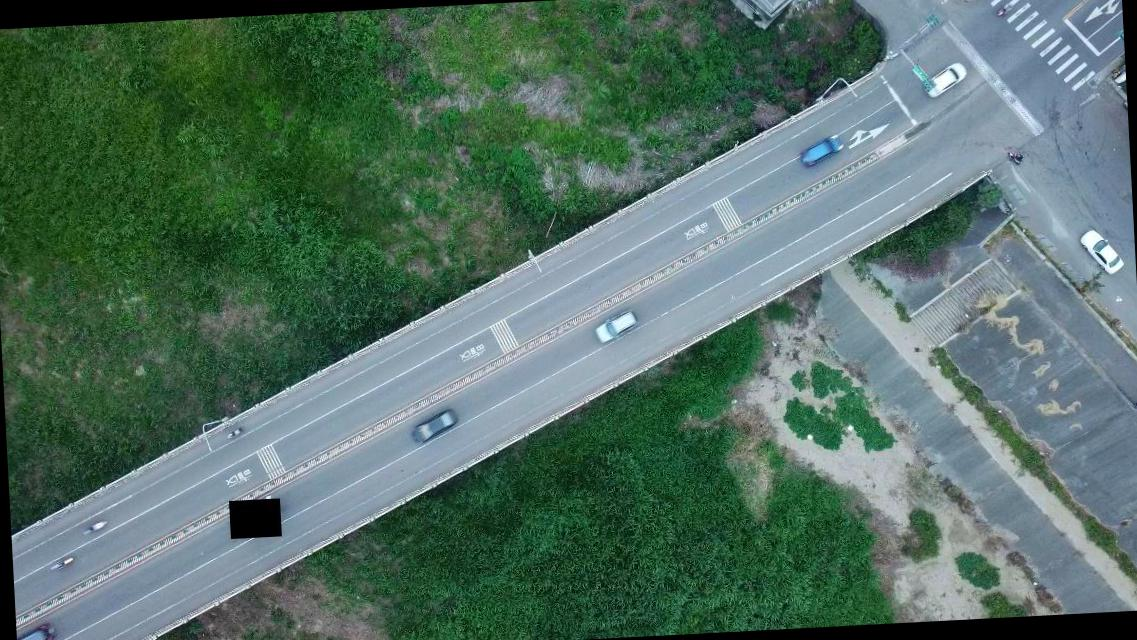vehicle: (1078, 227, 1123, 275), (408, 408, 460, 447), (592, 310, 640, 346), (921, 63, 966, 99), (798, 134, 844, 167), (15, 623, 60, 639)
